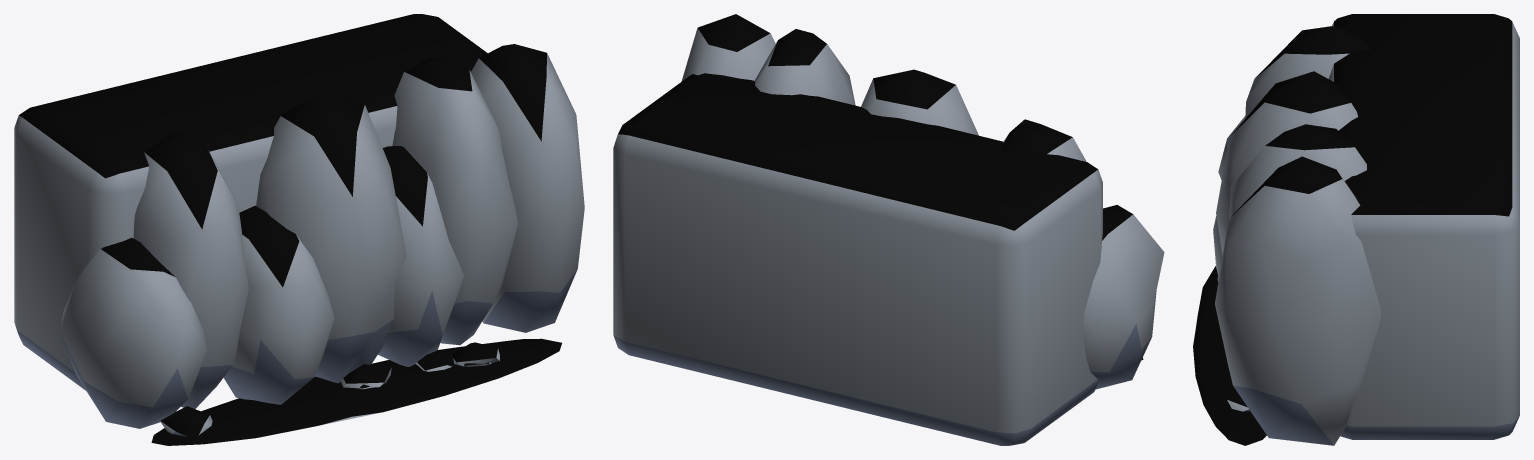
The model's file is CraterWallA.fbx.
The picture shows the model from 3 angles, left to right: view 1: azimuth 30°, elevation 25°; view 2: azimuth 150°, elevation 25°; view 3: azimuth 270°, elevation 25°; orthographic projection. The views are drawn at different scales.
Visible parts, largest first — view 1: CraterWallA; view 2: CraterWallA; view 3: CraterWallA.
Part boxes in pixels (x1,y1,x2,y2): CraterWallA: [14, 14, 584, 445]; CraterWallA: [613, 14, 1164, 445]; CraterWallA: [1193, 14, 1519, 445].
Bounding box in the file's own units: 8.65 × 4.82 × 5.07.
1 material, 1 textured.
